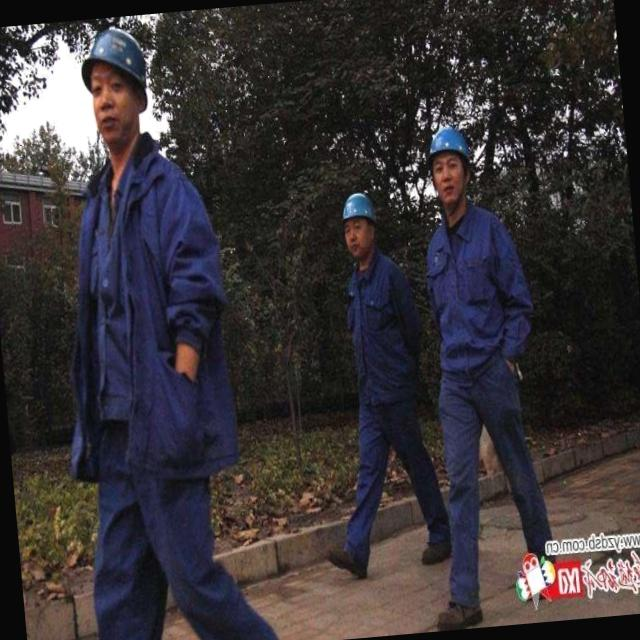helmet: (73, 20, 154, 81), (422, 128, 473, 163), (340, 186, 380, 226)
no-goggles: (426, 150, 470, 183), (80, 73, 134, 99), (340, 212, 374, 232)
no-vest: (59, 134, 218, 392), (422, 210, 514, 352), (348, 260, 408, 390)
